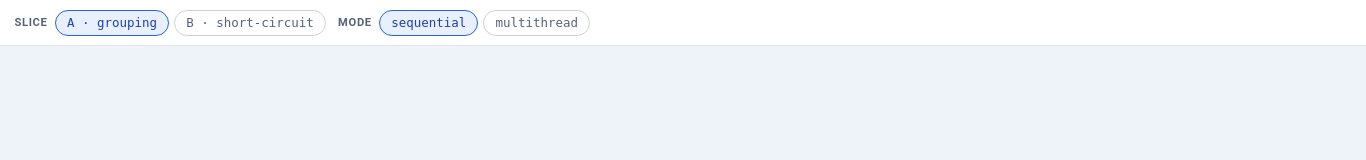
Test: S3.6 multithread controls — mode / threads / seed (AC1–AC3) › multithread reveals the thread + seed controls and swaps a forked log
Check: the element "threads" is not shown
Click the button "multithread" at (537, 23), box [483, 10, 590, 36]
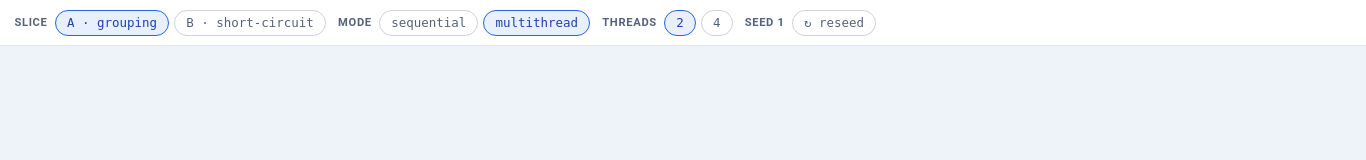
Check: the element "Seed 1 ↻ reseed" is shown, box [745, 10, 876, 36]
